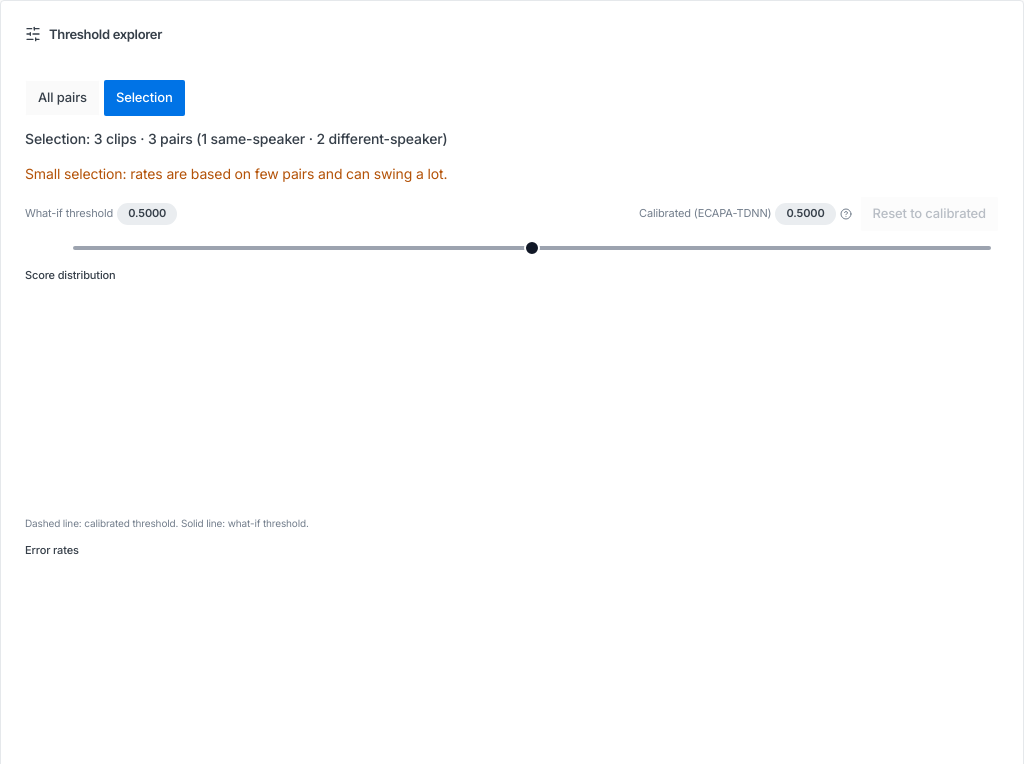
Test: ThresholdExplorerCard › Selection mode › warns about a small selection
Check: the text with test id "selection-warning" reads "Small selection: rates are based on few pairs and can swing a lot.", box [25,165,447,182]
The warning belongs to the selection, not to the whole batch.
Click the button "All pairs". click: point(62, 98)
box: [25,80,100,116]
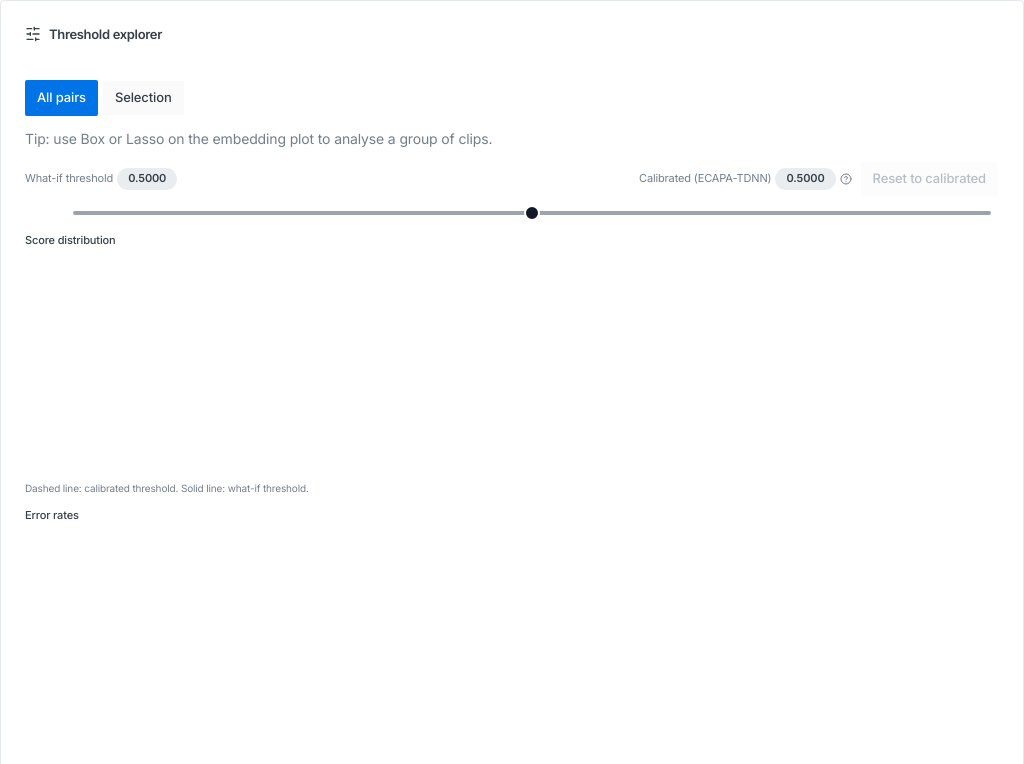
Check: the text with test id "selection-warning" is gone
